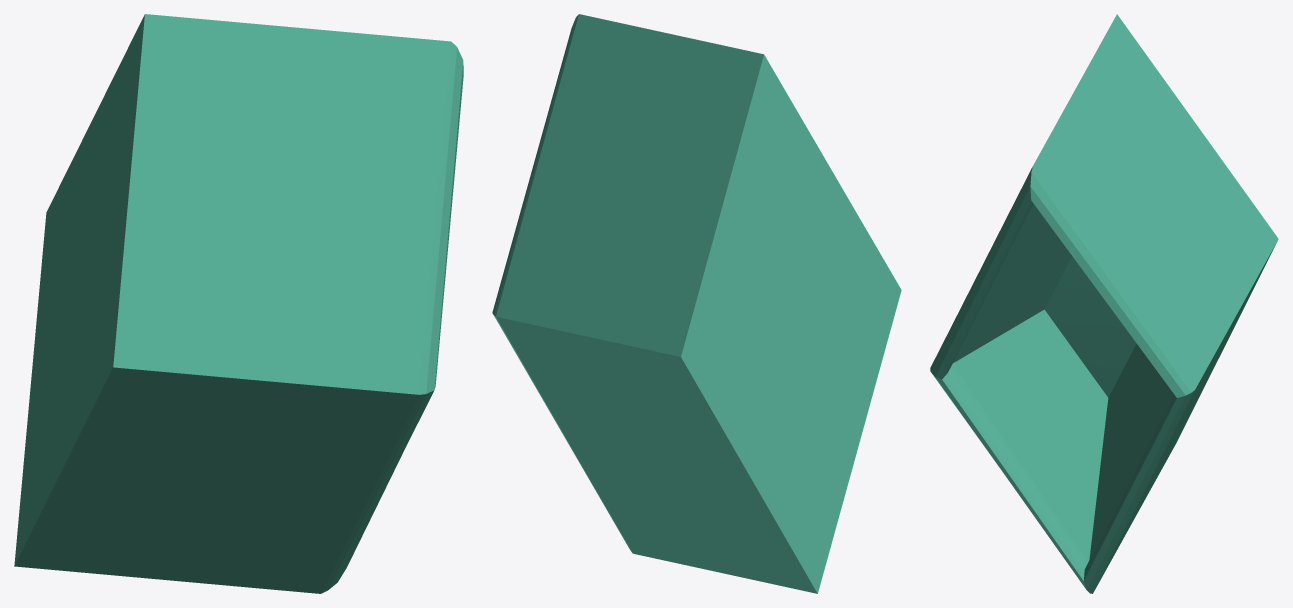
The model's file is TR5_8shapes_Kite_Classic_Metal.001 2.glb.
The picture shows the model from 3 angles, left to right: view 1: azimuth 30°, elevation 25°; view 2: azimuth 150°, elevation 25°; view 3: azimuth 270°, elevation 25°; orthographic projection. The views are drawn at different scales.
Visible parts, largest first — view 1: TR5_8shapes_Kite_Classic_Metal.001; view 2: TR5_8shapes_Kite_Classic_Metal.001; view 3: TR5_8shapes_Kite_Classic_Metal.001.
Part boxes in pixels (left/top/right/bottom): TR5_8shapes_Kite_Classic_Metal.001: left=14, top=14, right=463, bottom=593; TR5_8shapes_Kite_Classic_Metal.001: left=492, top=14, right=901, bottom=593; TR5_8shapes_Kite_Classic_Metal.001: left=930, top=14, right=1278, bottom=593.
Bounding box in the file's own units: 0.4111 × 0.6587 × 0.4051.
